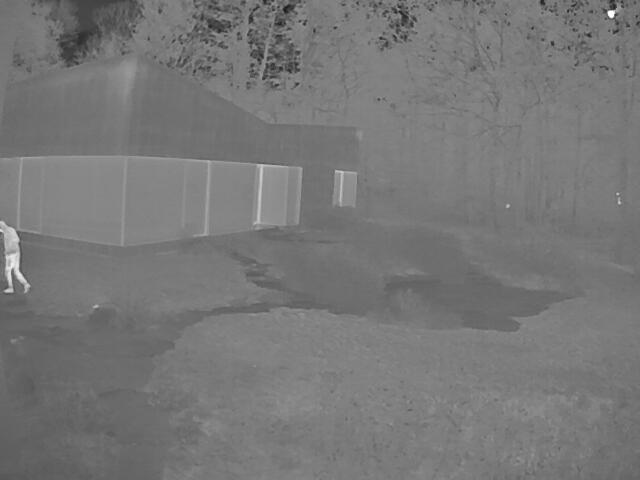person: (0, 222, 30, 293)
